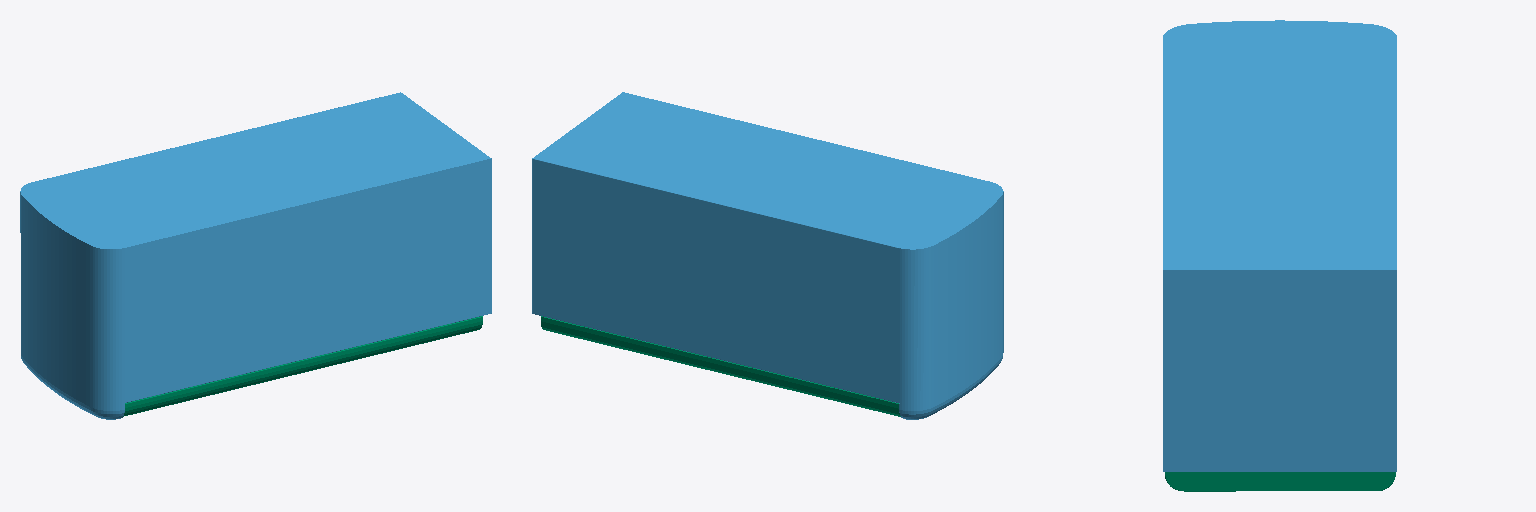
The robot description file, URDF, robot "fridge":
<?xml version="1.0" ?>
<robot name="fridge">
	<mujoco>
        <compiler meshdir="texture_stl" balanceinertia="true" discardvisual="false"/>
    </mujoco>
	<link name="base"/>
	<link name="link_0">
		<visual name="out-frame">
			<origin xyz="0 0 0"/>
			<geometry>
				<mesh filename="texture_stl/frame.stl" scale="1 1 1"/>
			</geometry>
		</visual>
		<collision>
			<origin xyz="0 0 0"/>
			<geometry>
				<mesh filename="texture_stl/frame.stl" scale="1 1 1"/>
			</geometry>
		</collision>
	</link>
	<joint name="joint_0" type="fixed">
		<origin rpy="1.570796326794897 0 -1.570796326794897" xyz="0 0 0"/>
		<child link="link_0"/>
		<parent link="base"/>
	</joint>
	<link name="link_1">
		<visual name="surf-board">
			<origin xyz="0.5031558534529236 -0.5106691273756496 0"/>
			<geometry>
				<mesh filename="texture_stl/board.stl" scale="1 1 1"/>
			</geometry>
		</visual>
		<collision>
			<origin xyz="0.5031558534529236 -0.5106691273756496 0"/>
			<geometry>
				<mesh filename="texture_stl/board.stl" scale="1 1 1"/>
			</geometry>
		</collision>
	</link>
	<joint name="joint_1" type="revolute">
		<origin xyz="-0.5031558534529236 0.5106691273756496 0"/>
		<axis xyz="0 -1 0"/>
		<child link="link_1"/>
		<parent link="link_0"/>
		<limit lower="0" upper="1.5079644737231006"/>
	</joint>
	<link name="link_2">
		<visual name="handle">
			<origin xyz="0 0 0"/>
			<geometry>
				<mesh filename="texture_stl/9960021.stl" scale="1 1 1"/>
			</geometry>
		</visual>
		<collision>
			<origin xyz="0 0 0"/>
			<geometry>
				<mesh filename="texture_stl/9960021.stl" scale="1 1 1"/>
			</geometry>
		</collision>
	</link>
	<joint name="joint_2" type="revolute">
		<origin xyz="0.5031558534529236 -0.5106691273756496 0.03281084317751692"/>
		<child link="link_2"/>
		<parent link="link_1"/>
		<axis xyz="0 0 1"/>
		<limit lower="0" upper="1.5079644737231006"/>
	</joint>
</robot>

--- Facts derived from the render (not from the file) ---
The picture shows the robot from 3 angles, left to right: view 1: azimuth 30°, elevation 25°; view 2: azimuth 150°, elevation 25°; view 3: azimuth 270°, elevation 25°; orthographic projection.
Robot: fridge — 4 links, 3 joints (2 revolute, 1 fixed); root link base; default pose: all joints at 0.
Visible links, largest first — view 1: link_0, link_1; view 2: link_0, link_1; view 3: link_0, link_1.
Boxes of the visible links, x1,y1,x2,y2 form: link_0: (20,92,491,419); link_1: (123,316,482,416); link_0: (532,92,1003,419); link_1: (541,316,900,416); link_0: (1163,20,1396,471); link_1: (1165,472,1395,491).
Bounding box of the posed robot: 1.51 × 0.6 × 0.6515 m (x, y, z).
3 mesh visuals loaded from 3 distinct referenced files (3 binary STL).